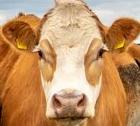muzzles: (43, 87, 92, 123)
